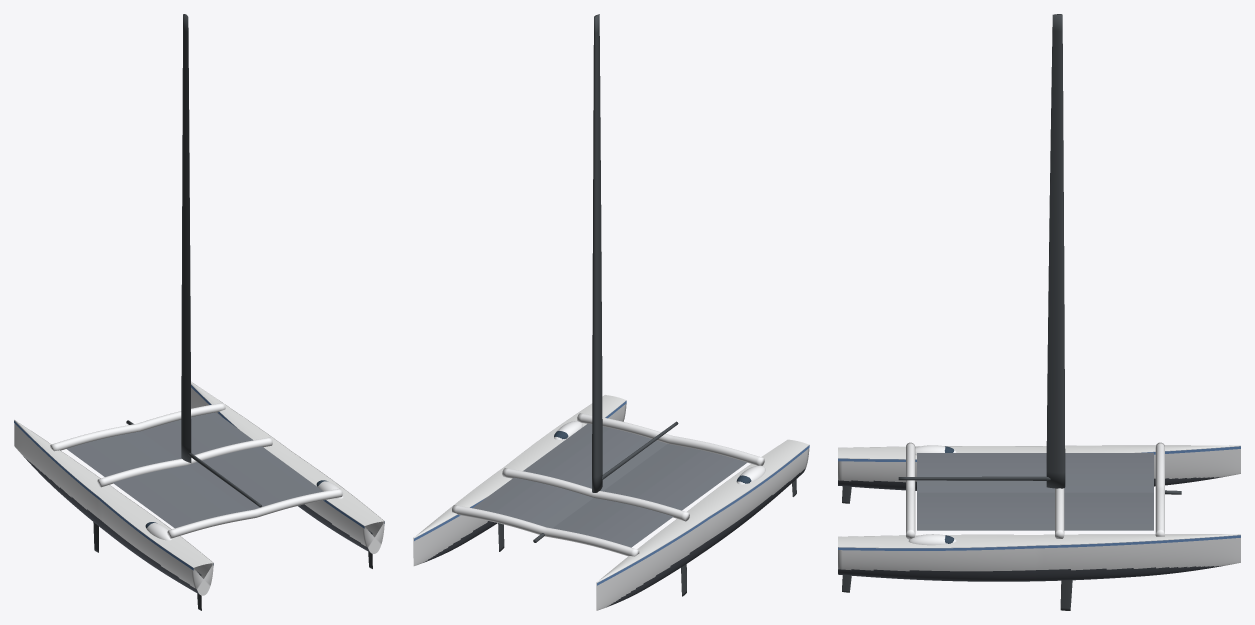
Rendered from jet_services_v.glb.
The picture shows the model from 3 angles, left to right: view 1: azimuth 30°, elevation 25°; view 2: azimuth 150°, elevation 25°; view 3: azimuth 270°, elevation 25°; orthographic projection. The views are drawn at different scales.
Parts seen in each view (by area): view 1: filet, coque_coque, pivot_mat, coque_pont, coque_pont.001, coque_coque.001, bras.002, bras, bras.001, coque_fond, coque_bande; view 2: filet, coque_coque, pivot_mat, coque_pont, coque_pont.001, coque_coque.001, bras, bras.002, bras.001, coque_fond, coque_bande; view 3: filet, coque_coque.001, pivot_mat, coque_coque, coque_fond.001, coque_pont.001, coque_pont, coque_bande.001, bras, bras.002, coque_fond, pivot_bome.
Boxes of the visible parts, x1,y1,x2,y2 form: filet: (66, 412, 323, 528); coque_coque: (14, 420, 213, 595); pivot_mat: (181, 14, 191, 462); coque_pont: (14, 419, 212, 567); coque_pont.001: (191, 382, 383, 525); coque_coque.001: (191, 383, 384, 553); bras.002: (167, 488, 342, 538); bras: (50, 403, 225, 451); bras.001: (97, 437, 272, 487); coque_fond: (23, 456, 199, 594); coque_bande: (14, 421, 213, 570); filet: (472, 423, 747, 547); coque_coque: (596, 440, 809, 610); pivot_mat: (592, 14, 602, 492); coque_pont: (596, 439, 808, 582); coque_pont.001: (413, 395, 626, 537); coque_coque.001: (413, 395, 626, 565); bras: (452, 505, 639, 556); bras.002: (577, 413, 764, 465); bras.001: (502, 468, 689, 521); coque_fond: (606, 468, 805, 607); coque_bande: (597, 445, 809, 585); filet: (917, 453, 1153, 530); coque_coque.001: (838, 534, 1240, 571); pivot_mat: (1046, 14, 1065, 488); coque_coque: (838, 445, 1240, 482); coque_fond.001: (838, 566, 1222, 581); coque_pont.001: (838, 534, 1240, 547); coque_pont: (838, 445, 1240, 459); coque_bande.001: (838, 535, 1240, 550); bras: (1155, 442, 1164, 536); bras.002: (906, 442, 915, 539); coque_fond: (838, 477, 1222, 490); pivot_bome: (898, 476, 1050, 480).
Size of the model in its own units: 19.16 by 48.33 by 32.
